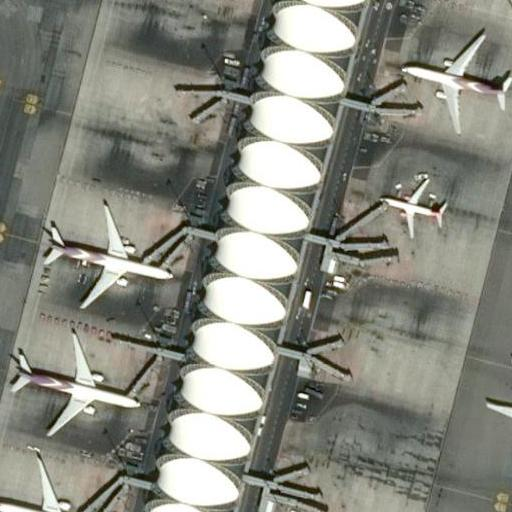Aircraft: (35, 200, 169, 310), (5, 328, 142, 435), (400, 26, 512, 132), (0, 450, 112, 512), (379, 176, 448, 240), (482, 343, 512, 470)
